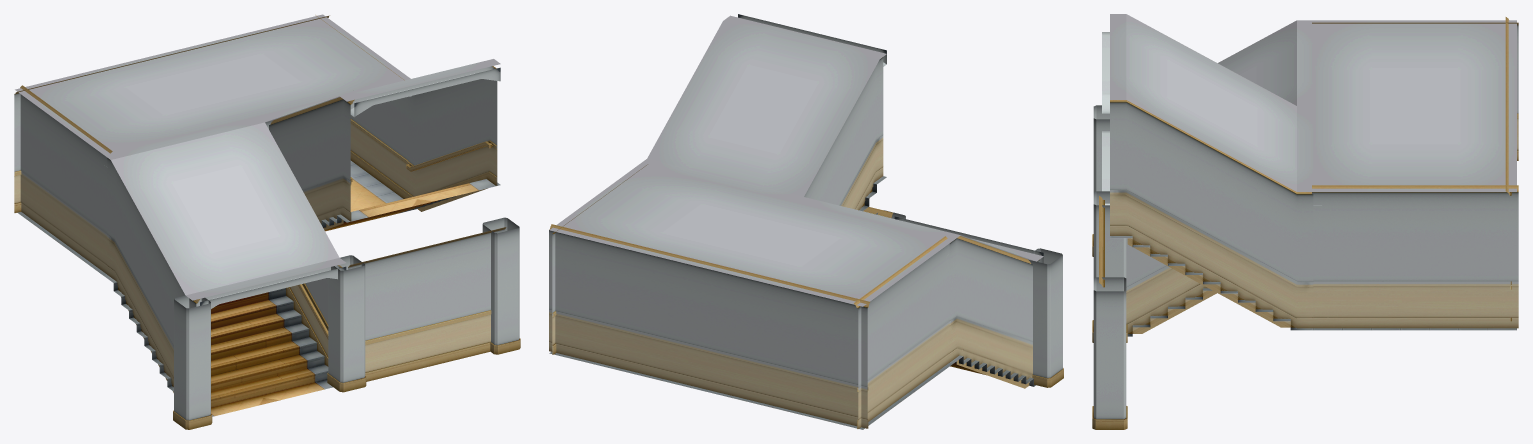
File: Single Stairs (First Floor) (merge).fbx
3 renders of one model, left to right at view 1: azimuth 30°, elevation 25°; view 2: azimuth 150°, elevation 25°; view 3: azimuth 270°, elevation 25°, orthographic. The views are drawn at different scales.
Visible parts, largest first — view 1: Ceiling (×3), LeftWall (×2), InteriorWall, Stairs (×2), InteriorWall (4), RightWall (×2), ExteriorColumn (4), ExteriorColumn (3), InteriorWall (3), ExteriorColumn (5), Supporter (1), Supporter (+2 smaller); view 2: Ceiling (×3), InteriorWall (2), InteriorWall (4), LeftWall, RightWall, ExteriorColumn (3), InteriorFloor (2), Stairs, Supporter (1), InteriorWall (3), Supporter; view 3: Ceiling (×3), InteriorWall (3), LeftWall, ExteriorColumn (5), RightWall, ExteriorColumn (4), ExteriorColumn (3), InteriorWall (2), InteriorWall (4), Supporter (1), Stairs, InteriorFloor (1) (+2 smaller).
Boxes of the visible parts, x1,y1,x2,y2 form: Ceiling (×3): [15, 14, 500, 300]; LeftWall (×2): [107, 66, 497, 392]; InteriorWall: [348, 227, 506, 381]; Stairs (×2): [104, 179, 500, 416]; InteriorWall (4): [20, 85, 112, 274]; RightWall (×2): [269, 97, 354, 366]; ExteriorColumn (4): [327, 255, 366, 392]; ExteriorColumn (3): [173, 295, 212, 429]; InteriorWall (3): [315, 15, 408, 198]; ExteriorColumn (5): [482, 217, 520, 354]; Supporter (1): [347, 66, 500, 116]; Supporter: [193, 265, 346, 308]; Ceiling (×3): [549, 15, 1043, 306]; InteriorWall (2): [549, 224, 869, 428]; InteriorWall (4): [854, 236, 949, 428]; LeftWall: [949, 236, 1039, 388]; RightWall: [804, 57, 883, 210]; ExteriorColumn (3): [1028, 248, 1063, 387]; InteriorFloor (2): [706, 362, 952, 429]; Stairs: [950, 355, 1035, 386]; Supporter (1): [738, 14, 886, 66]; InteriorWall (3): [552, 164, 647, 354]; Supporter: [894, 216, 1043, 263]; Ceiling (×3): [1110, 14, 1516, 191]; InteriorWall (3): [1312, 185, 1518, 328]; LeftWall: [1110, 100, 1313, 328]; ExteriorColumn (5): [1092, 277, 1127, 429]; RightWall: [1126, 238, 1216, 333]; ExteriorColumn (4): [1092, 191, 1127, 342]; ExteriorColumn (3): [1092, 105, 1109, 256]; InteriorWall (2): [1505, 17, 1511, 321]; InteriorWall (4): [1312, 22, 1518, 160]; Supporter (1): [1102, 32, 1109, 113]; Stairs: [1110, 236, 1313, 330]; InteriorFloor (1): [1313, 328, 1516, 330].
Size of the model in its own units: 8.69 by 7 by 8.38.
7 materials, 7 textured.
